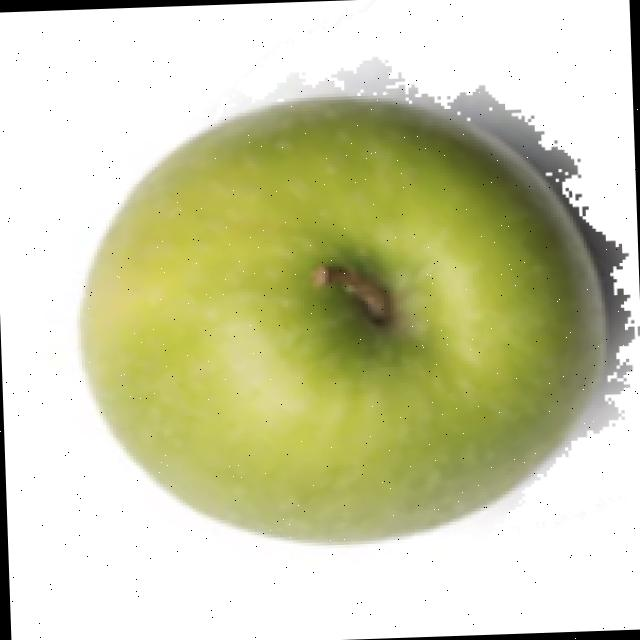apple: (70, 55, 638, 551)
